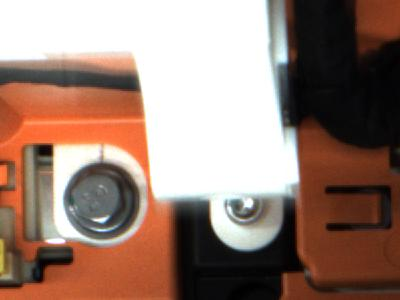nut_b: (60, 163, 140, 241)
